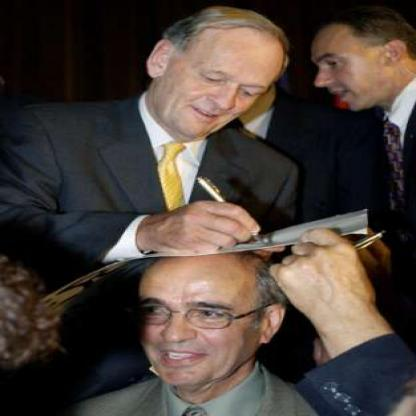face: (131, 244, 267, 392), (167, 14, 278, 144), (307, 24, 391, 113)
